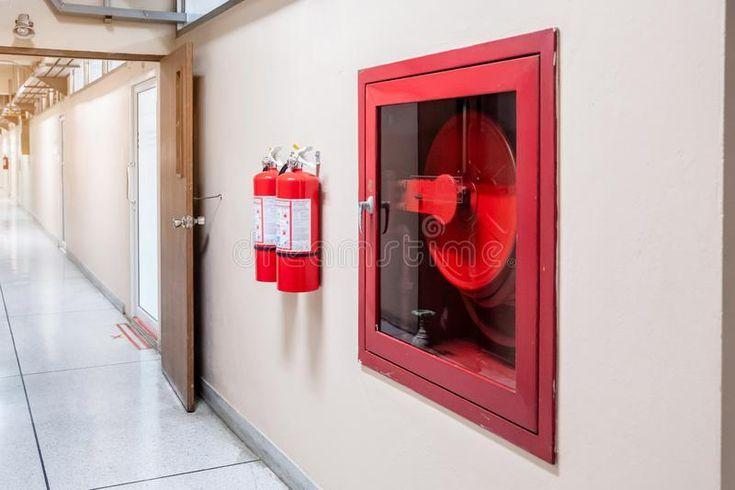cabinet: (354, 31, 556, 466)
hose: (416, 110, 524, 350)
wall-mounted: (276, 146, 323, 294), (254, 146, 281, 284)
